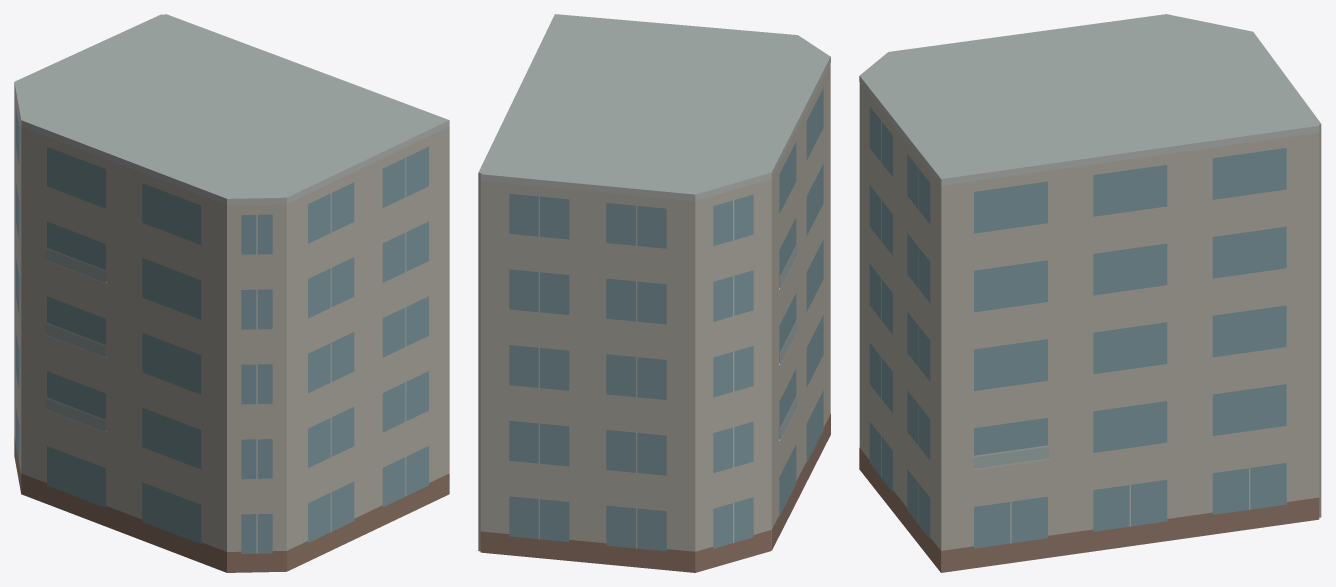
File: survey-upis-32967646.glb
3 renders of one model, left to right at view 1: azimuth 30°, elevation 25°; view 2: azimuth 150°, elevation 25°; view 3: azimuth 270°, elevation 25°, orthographic. The views are drawn at different scales.
Visible parts, largest first — view 1: survey-upis-32967646.tmp; view 2: survey-upis-32967646.tmp; view 3: survey-upis-32967646.tmp.
Boxes of the visible parts, x1,y1,x2,y2 form: survey-upis-32967646.tmp: (14, 14, 449, 572); survey-upis-32967646.tmp: (478, 14, 830, 572); survey-upis-32967646.tmp: (859, 14, 1321, 572).
Size of the model in its own units: 12.78 by 14.2 by 15.11.
